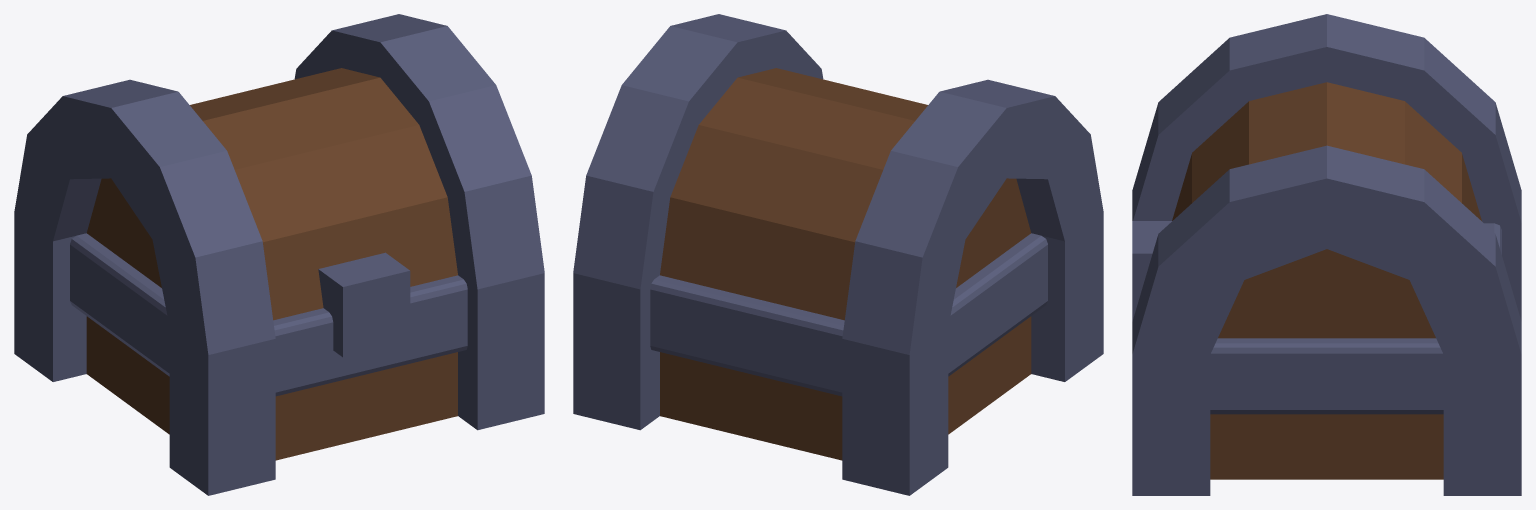
The model's file is kenney_mini-dungeon__chest__cave.fbx.
3 views of the same model, side by side, from view 1: azimuth 30°, elevation 25°; view 2: azimuth 150°, elevation 25°; view 3: azimuth 270°, elevation 25° (orthographic).
Parts seen in each view (by area): view 1: kenney_mini-dungeon__chest__cave_stone, kenney_mini-dungeon__chest__cave_wood; view 2: kenney_mini-dungeon__chest__cave_stone, kenney_mini-dungeon__chest__cave_wood; view 3: kenney_mini-dungeon__chest__cave_stone, kenney_mini-dungeon__chest__cave_wood.
Boxes of the visible parts, bbox=[...] form: kenney_mini-dungeon__chest__cave_stone: bbox=[14, 14, 544, 495]; kenney_mini-dungeon__chest__cave_wood: bbox=[86, 68, 457, 460]; kenney_mini-dungeon__chest__cave_stone: bbox=[573, 14, 1103, 495]; kenney_mini-dungeon__chest__cave_wood: bbox=[660, 68, 1031, 460]; kenney_mini-dungeon__chest__cave_stone: bbox=[1132, 14, 1521, 495]; kenney_mini-dungeon__chest__cave_wood: bbox=[1172, 82, 1481, 479].
Size of the model in its own units: 1.79 by 1.61 by 1.79.
Materials: 2 (2 with a texture image).
